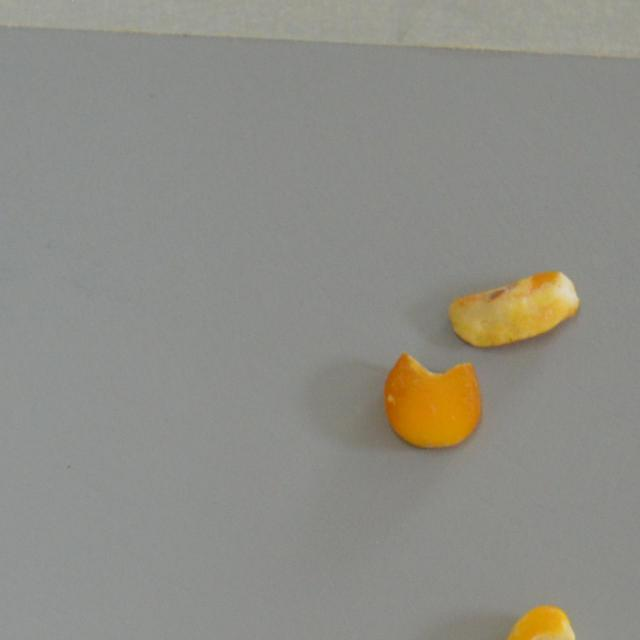dañado: (445, 268, 586, 350), (496, 604, 576, 640)
no_canjicado: (383, 351, 480, 451)
